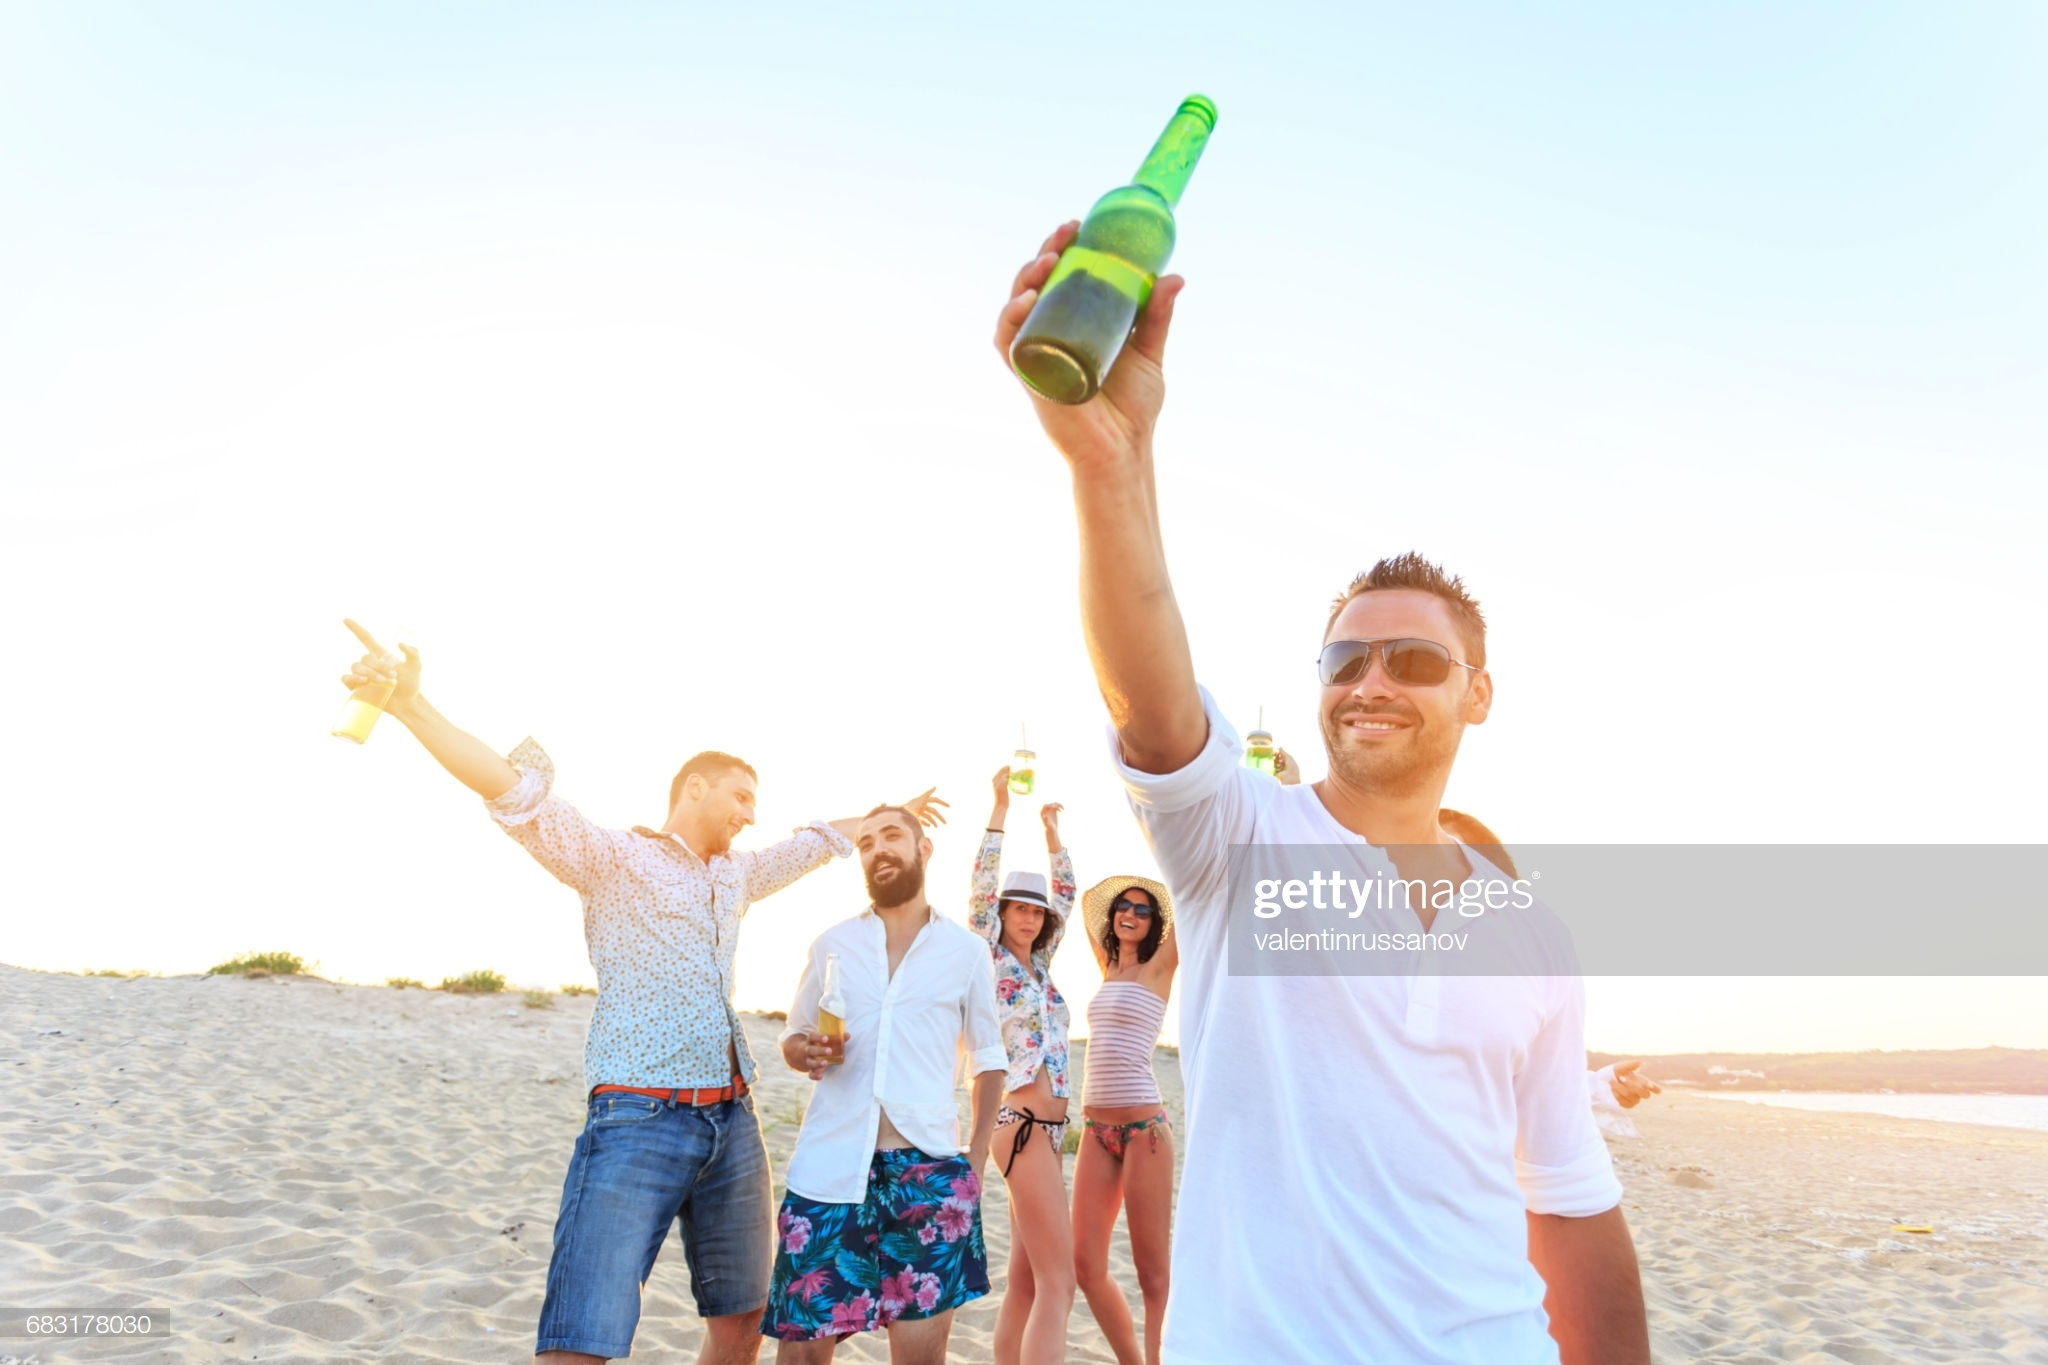beerBottle: (1016, 91, 1226, 411)
